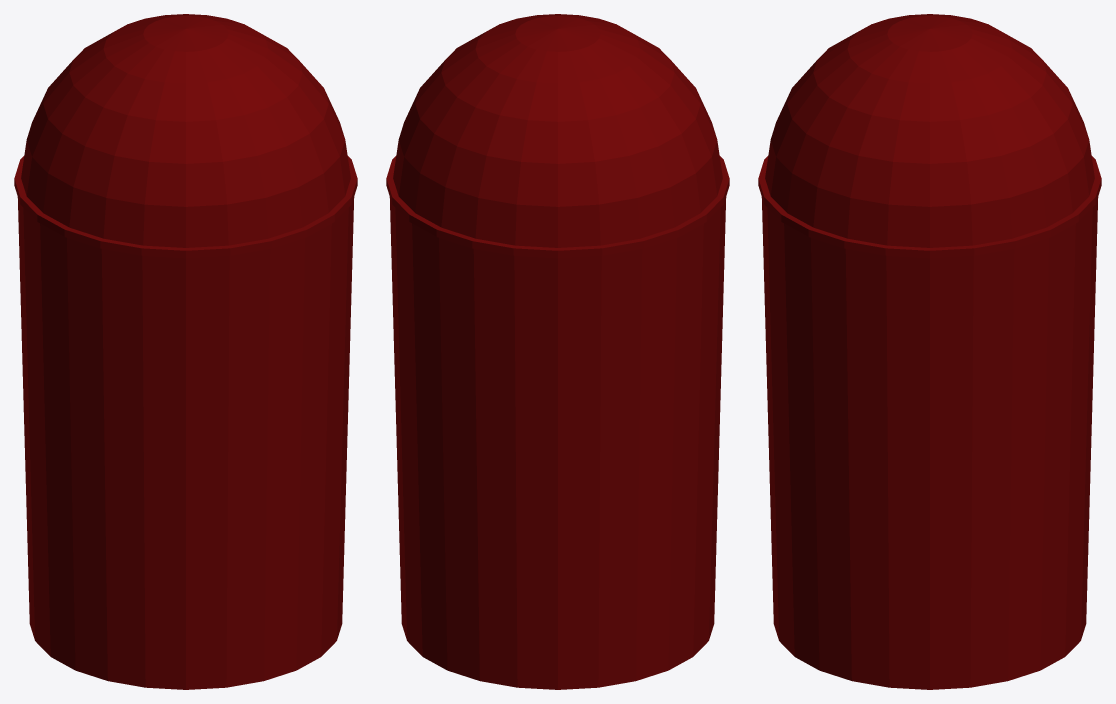
3 renders of one model, left to right at view 1: azimuth 30°, elevation 25°; view 2: azimuth 150°, elevation 25°; view 3: azimuth 270°, elevation 25°, orthographic.
Parts seen in each view (by area): view 1: mesh1_mesh1-geometry; view 2: mesh1_mesh1-geometry; view 3: mesh1_mesh1-geometry.
Part boxes in pixels (x1,y1,x2,y2): mesh1_mesh1-geometry: (14,14,357,689); mesh1_mesh1-geometry: (386,14,729,689); mesh1_mesh1-geometry: (758,14,1101,689).
Size of the model in its own units: 0.4203 by 0.8042 by 0.4203.
